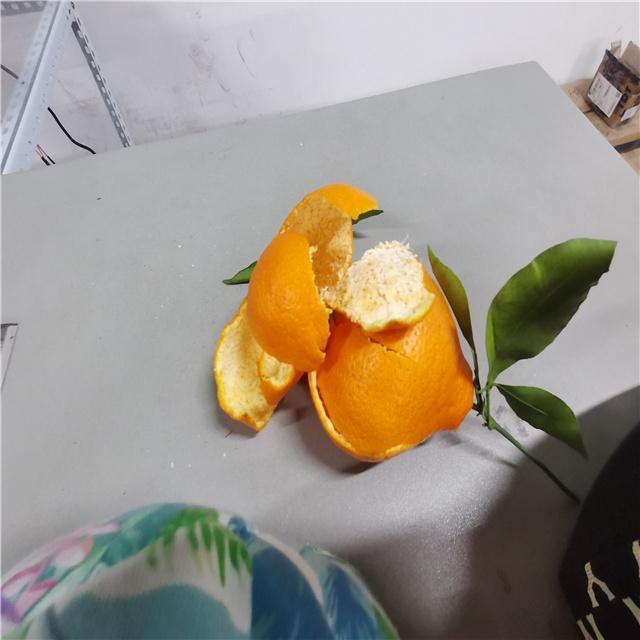orange-peel: (215, 182, 488, 463)
